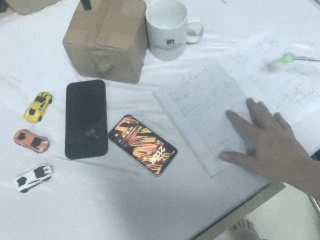box: (62, 1, 149, 83), (1, 1, 64, 16)
cup: (145, 1, 204, 62)
phone: (109, 113, 178, 176), (64, 79, 108, 160)
toy_car: (15, 164, 55, 193), (23, 91, 53, 124), (13, 128, 51, 154)
